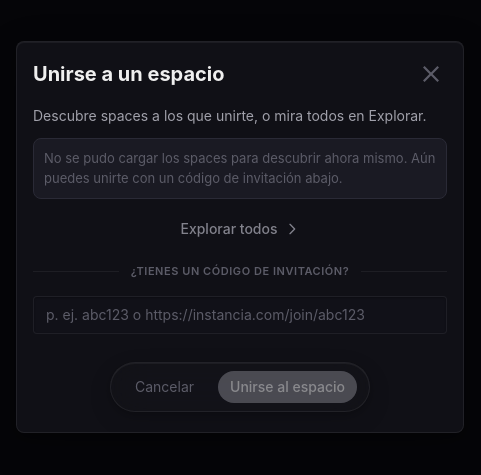
Test case: JoinSpaceModal › shows error message when joinByCode fails
Type "bad-code" into the field with placeholder "p. ej. abc123 o https://instancia.com/join/abc123" at (240, 315), box [33, 296, 447, 334]
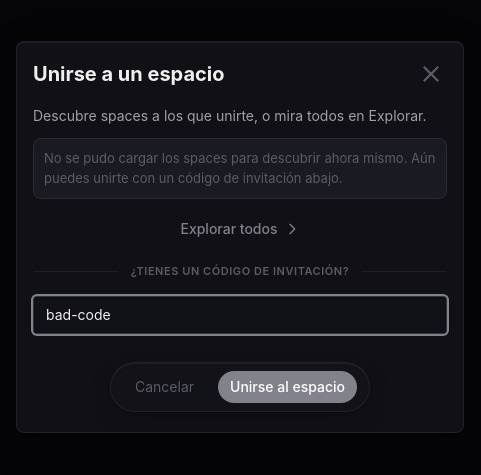
Click the button "Unirse al espacio" at (288, 387), box [218, 371, 357, 403]
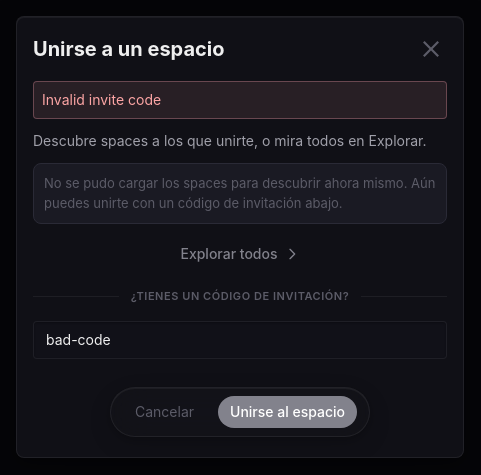
Expected: the text "Invalid invite code" is shown, [33, 81, 447, 119]
